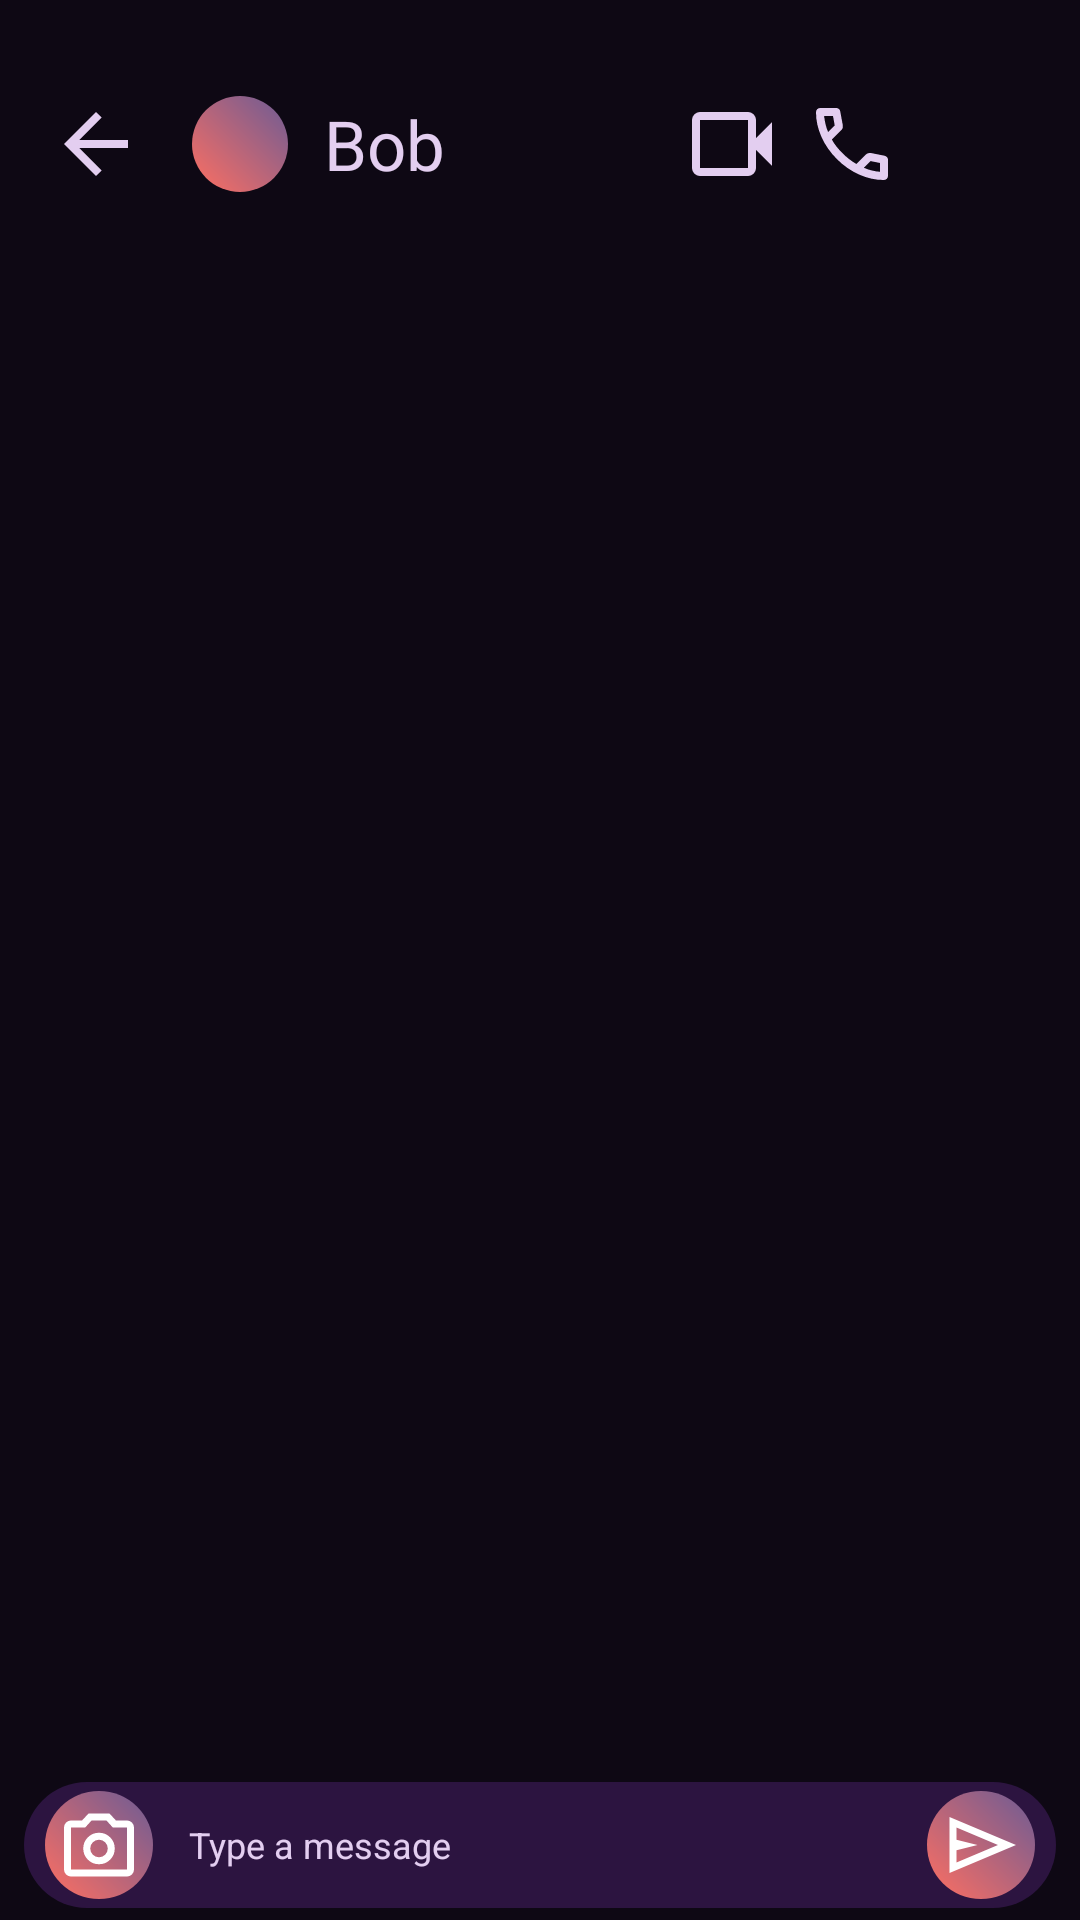

Screen size 1080×1920. Icon name, then its center in pixels as (x=x, y=y):
arrow back: (x=96, y=144)
call: (x=852, y=144)
photo camera: (x=99, y=1845)
send: (x=981, y=1845)
videocam: (x=732, y=144)
